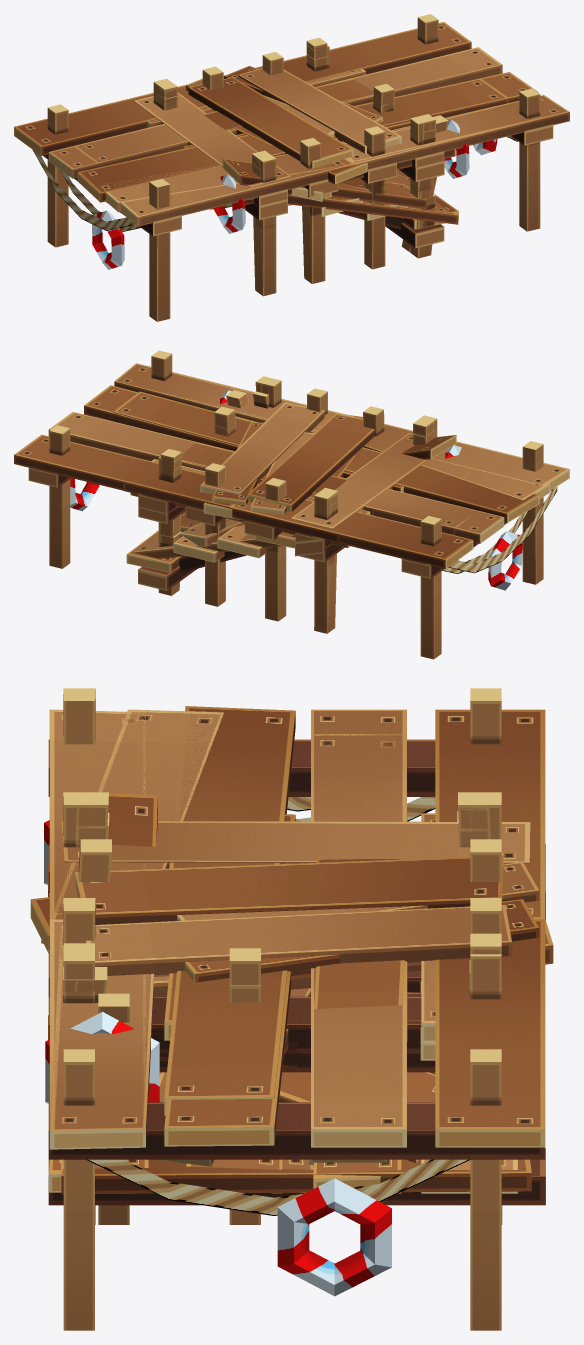
File: modular_pier.fbx
3 renders of one model, top to bottom at view 1: azimuth 30°, elevation 25°; view 2: azimuth 150°, elevation 25°; view 3: azimuth 270°, elevation 25°, orthographic. The views are drawn at different scales.
Parts seen in each view (by area): view 1: platform_double_02, platform_double_01, platform_06, stairs_02, platform_05, platform_07, platform_low_03, slope_03, platform_02, platform_04, slope_02; view 2: platform_double_02, platform_double_01, platform_06, stairs_02, platform_05, platform_07, slope_02, platform_low_03, stairs_01, platform_02, slope_03, platform_04; view 3: platform_double_02, platform_double_01, platform_06, stairs_02, platform_05, platform_07, platform_02, platform_low_03, slope_03, slope_01, platform_04, slope_02.
Part boxes in pixels (x1,y1,x2,y2): platform_double_02: (14, 14, 569, 321); platform_double_01: (33, 47, 569, 283); platform_06: (188, 68, 415, 233); stairs_02: (134, 92, 458, 295); platform_05: (148, 37, 448, 294); platform_07: (153, 45, 469, 296); platform_low_03: (156, 54, 455, 229); slope_03: (147, 121, 458, 258); platform_02: (204, 79, 436, 256); platform_04: (157, 45, 394, 113); slope_02: (251, 164, 454, 291); platform_double_02: (14, 350, 551, 659); platform_double_01: (48, 363, 569, 620); platform_06: (167, 402, 461, 514); stairs_02: (126, 433, 428, 632); platform_05: (138, 390, 456, 631); platform_07: (123, 377, 437, 630); slope_02: (133, 434, 426, 633); platform_low_03: (130, 391, 434, 566); stairs_01: (173, 524, 266, 562); platform_02: (181, 376, 347, 493); slope_03: (134, 512, 370, 551); platform_04: (159, 406, 338, 629); platform_double_02: (48, 688, 545, 1330); platform_double_01: (49, 706, 470, 1296); platform_06: (44, 820, 512, 1070); stairs_02: (48, 813, 545, 1205); platform_05: (48, 791, 539, 1224); platform_07: (45, 792, 501, 1103); platform_02: (63, 859, 404, 1008); platform_low_03: (30, 811, 553, 1072); slope_03: (41, 940, 517, 1193); slope_01: (60, 1159, 401, 1193); platform_04: (229, 792, 490, 985); slope_02: (50, 813, 545, 1224).
Size of the model in its own units: 20.26 by 6.14 by 10.53.
